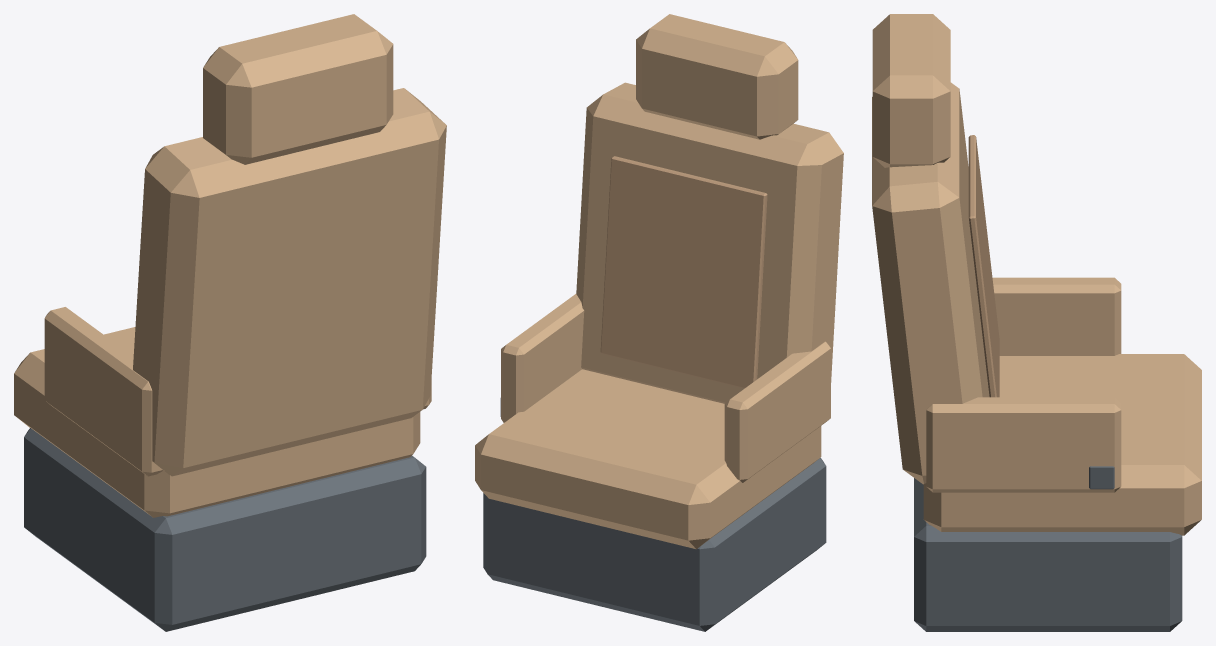
File: FrontSeatLeft.glb
The picture shows the model from 3 angles, left to right: view 1: azimuth 30°, elevation 25°; view 2: azimuth 150°, elevation 25°; view 3: azimuth 270°, elevation 25°; orthographic projection. The views are drawn at different scales.
Parts seen in each view (by area): view 1: FrontSeatLeft_SandUpholstery, FrontSeatLeft_CharcoalTrim; view 2: FrontSeatLeft_SandUpholstery, FrontSeatLeft_SeatInsert, FrontSeatLeft_CharcoalTrim; view 3: FrontSeatLeft_SandUpholstery, FrontSeatLeft_CharcoalTrim, FrontSeatLeft_SeatInsert.
Boxes of the visible parts, x1,y1,x2,y2 form: FrontSeatLeft_SandUpholstery: (14, 14, 446, 517); FrontSeatLeft_CharcoalTrim: (24, 428, 426, 631); FrontSeatLeft_SandUpholstery: (475, 14, 843, 549); FrontSeatLeft_SeatInsert: (600, 156, 767, 388); FrontSeatLeft_CharcoalTrim: (483, 398, 826, 631); FrontSeatLeft_SandUpholstery: (872, 14, 1201, 535); FrontSeatLeft_CharcoalTrim: (914, 466, 1182, 631); FrontSeatLeft_SeatInsert: (968, 135, 999, 397).
Size of the model in its own units: 0.6425 by 1.2 by 0.6758.
